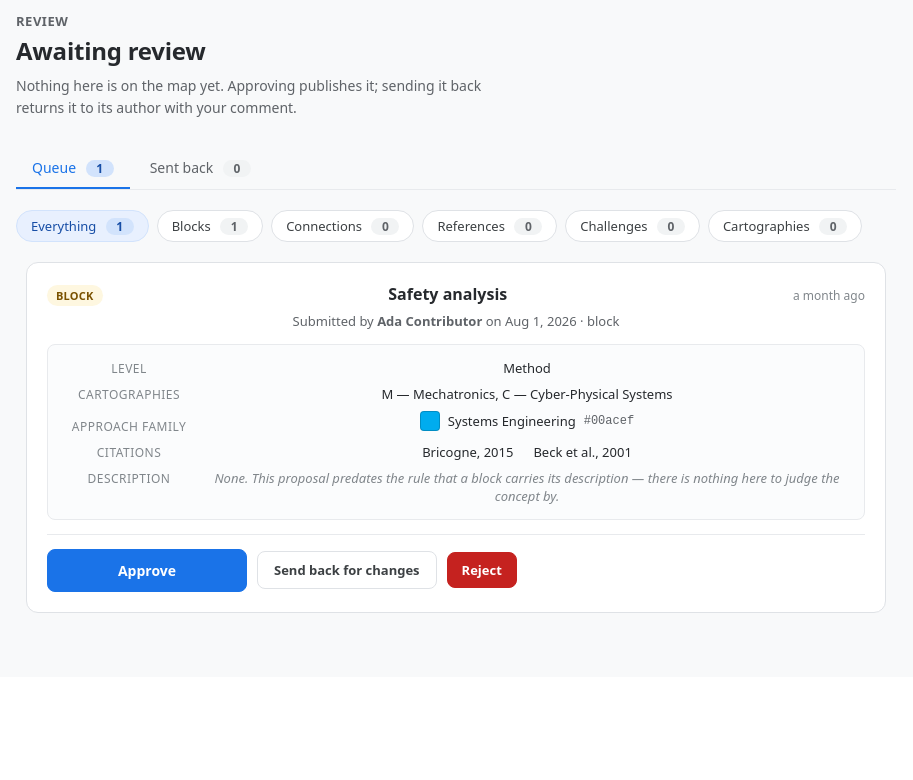
the three decisions › blocks send-back until a reason is given, and explains why one is needed
Expected: the text "Safety analysis" is shown, [388,283,507,305]
Click the button "Send back for changes".
click(347, 570)  # box [257,551,437,589]
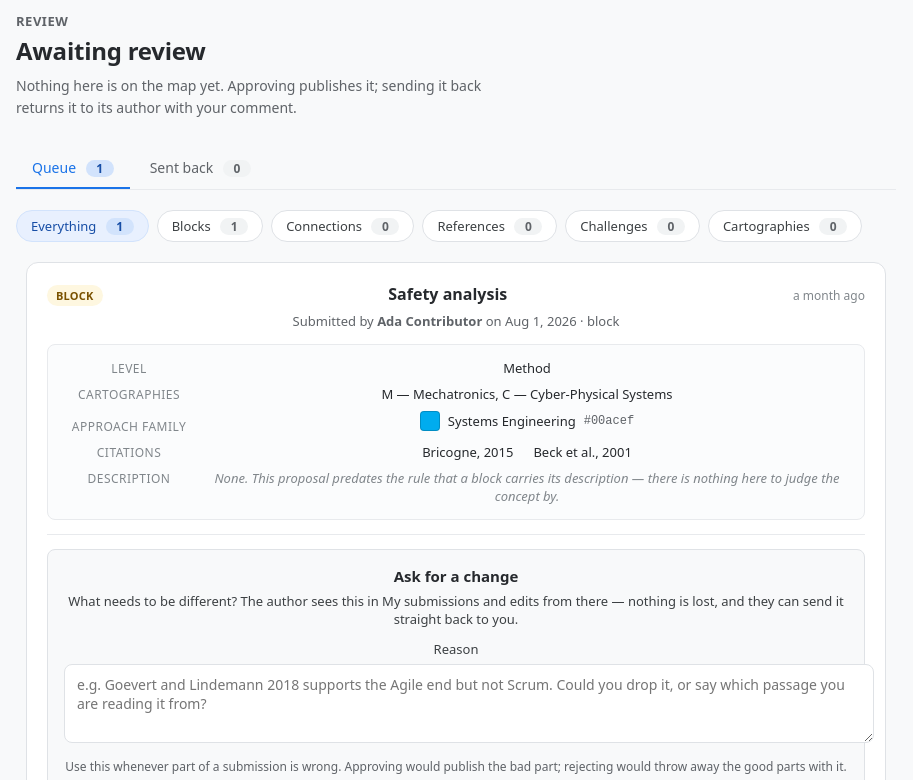
Replace the text in the text box labelled "Reason" with "Could you say which map this belongs in?" at x=469, y=703, box [64,664,874,743]
(page scrolled)
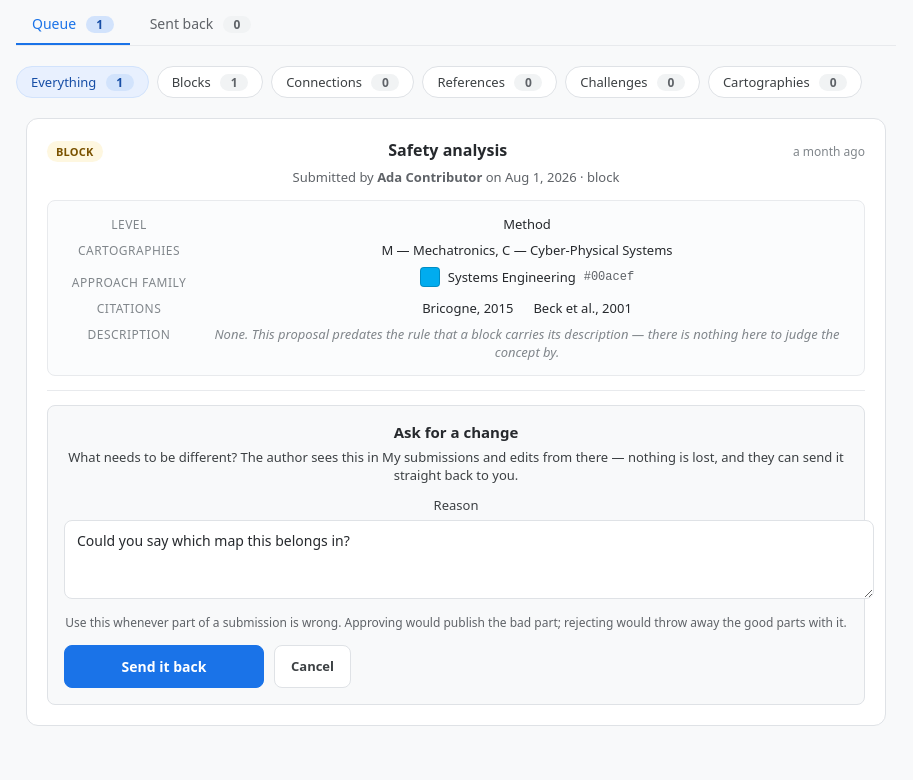
Expected: the button "Send it back" is enabled, [64,645,264,688]
